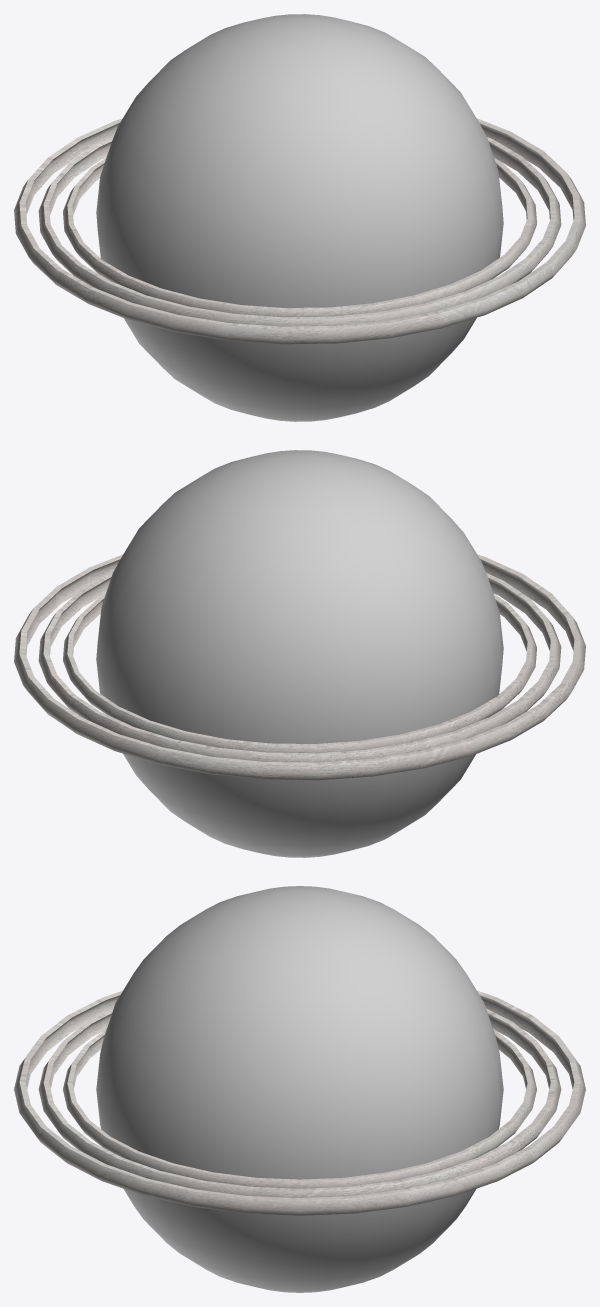
The model's file is orb.fbx.
3 views of the same model, one above another, from view 1: azimuth 30°, elevation 25°; view 2: azimuth 150°, elevation 25°; view 3: azimuth 270°, elevation 25° (orthographic).
Visible parts, largest first — view 1: Orb, Ring.002, Ring.001, Ring; view 2: Orb, Ring.002, Ring.001, Ring; view 3: Orb, Ring.002, Ring.001, Ring.
Part boxes in pixels (<box>): Orb: <box>96,14,503,421</box>; Ring.002: <box>14,118,585,344</box>; Ring.001: <box>38,137,561,326</box>; Ring: <box>63,157,536,317</box>; Orb: <box>96,450,503,857</box>; Ring.002: <box>14,554,585,780</box>; Ring.001: <box>38,573,561,762</box>; Ring: <box>63,593,536,753</box>; Orb: <box>96,886,503,1292</box>; Ring.002: <box>14,990,585,1215</box>; Ring.001: <box>38,1008,561,1197</box>; Ring: <box>63,1028,536,1188</box>.
Bounding box in the file's own units: 1.29 × 0.9198 × 1.29.
